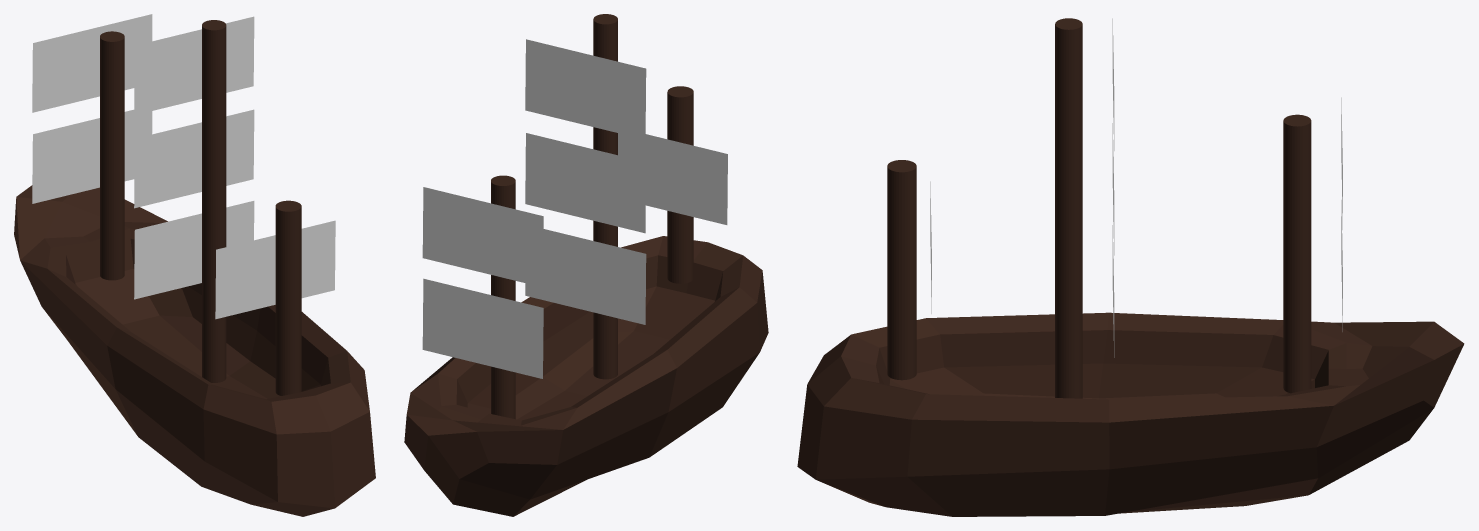
File: ship.fbx
The picture shows the model from 3 angles, left to right: view 1: azimuth 30°, elevation 25°; view 2: azimuth 150°, elevation 25°; view 3: azimuth 270°, elevation 25°; orthographic projection. The views are drawn at different scales.
Parts seen in each view (by area): view 1: Cube, 円柱.001, 平面.004, 平面.002, 平面.005, 平面, 円柱.002, 平面.001, 平面.003, 円柱; view 2: Cube, 平面, 平面.004, 平面.001, 平面.002, 平面.003, 平面.005, 円柱.001, 円柱, 円柱.002; view 3: Cube, 円柱.001, 円柱.002, 円柱.
Part boxes in pixels (x1,y1,x2,y2): Cube: (14,185,375,516); 円柱.001: (202,20,226,382); 平面.004: (134,16,254,115); 平面.002: (134,109,254,208); 平面.005: (215,220,335,319); 平面: (32,14,152,112); 円柱.002: (100,31,124,280); 平面.001: (32,109,152,203); 平面.003: (134,201,254,299); 円柱: (275,200,301,395); Cube: (404,236,768,516); 平面: (422,187,543,287); 平面.004: (525,39,646,139); 平面.001: (422,278,543,378); 平面.002: (525,133,646,233); 平面.003: (525,229,646,324); 平面.005: (618,133,727,224); 円柱.001: (593,14,617,379); 円柱: (667,86,693,283); 円柱.002: (491,175,515,419); Cube: (797,312,1464,516); 円柱.001: (1055,18,1082,398); 円柱.002: (1283,114,1311,393); 円柱: (887,160,916,380).
Size of the model in its own units: 544 by 1269 by 1575.
